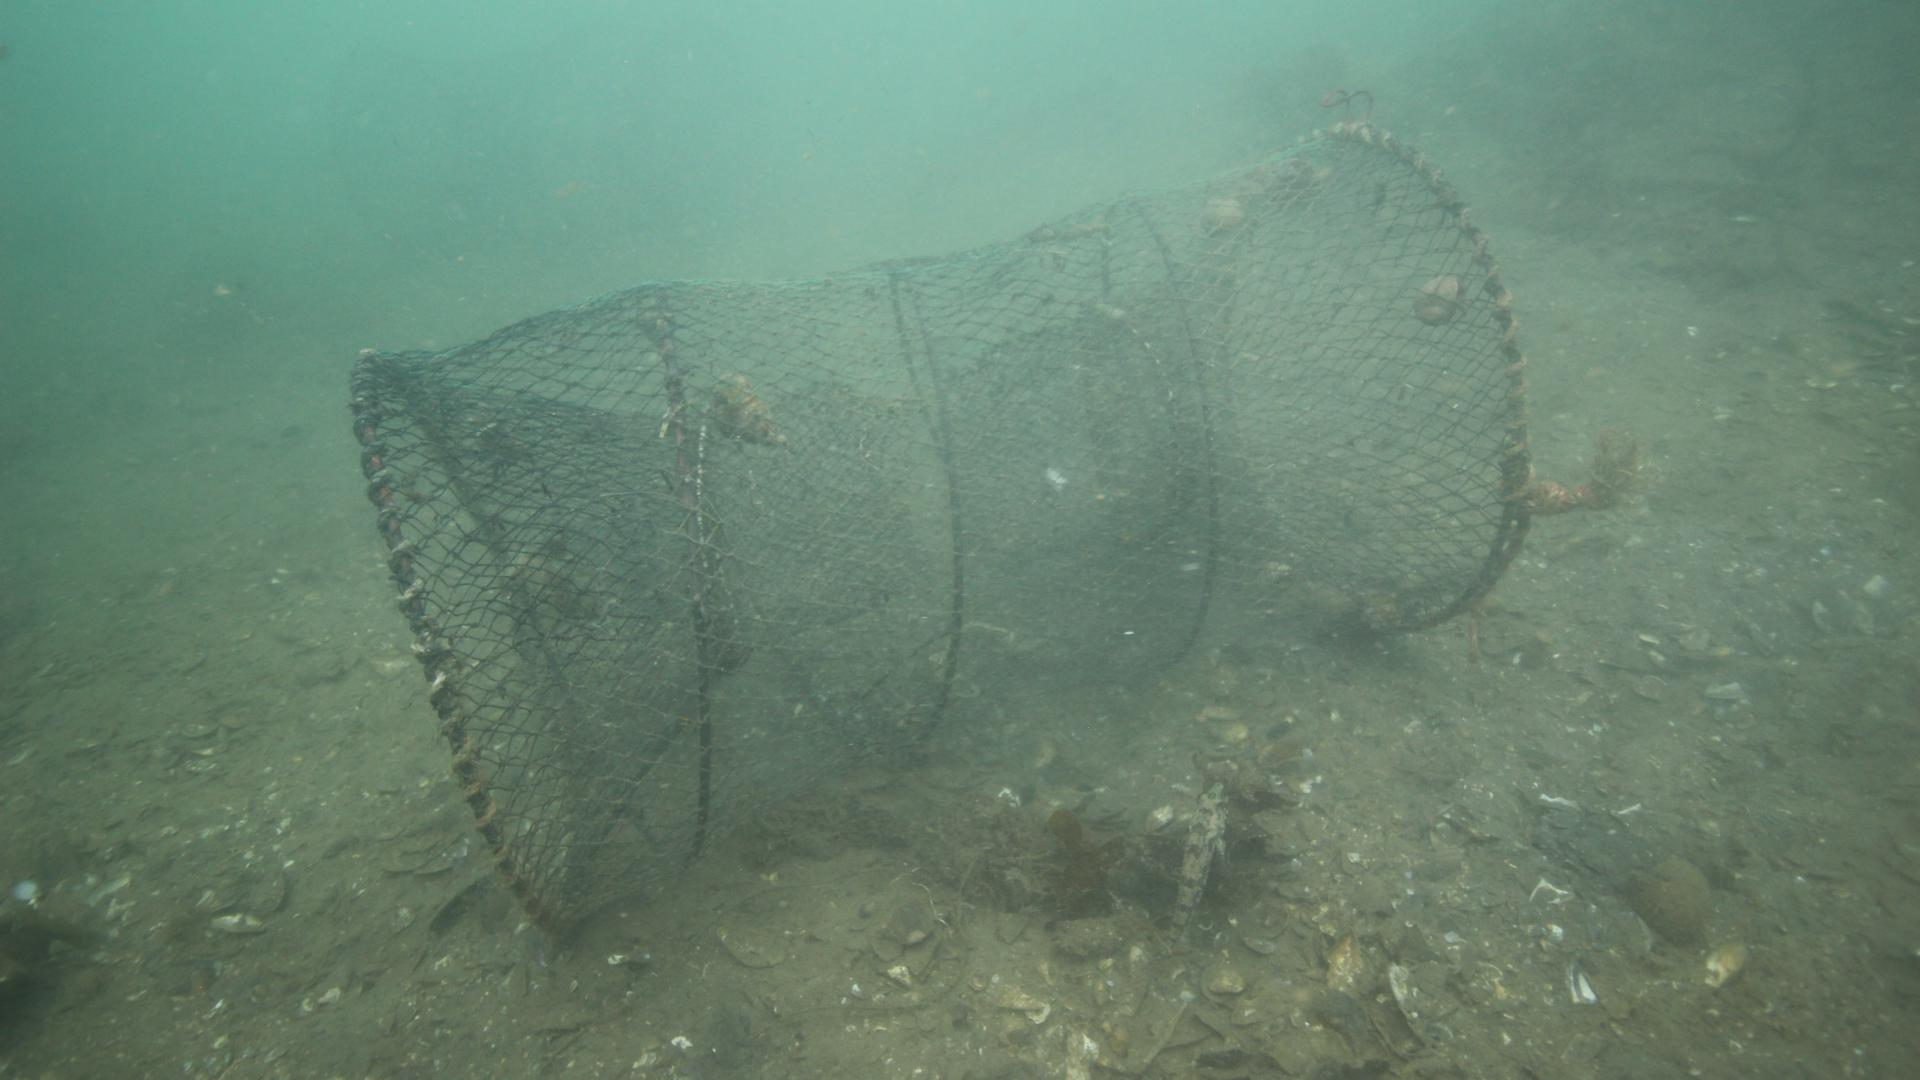spring fish trap: (345, 123, 1536, 942)
